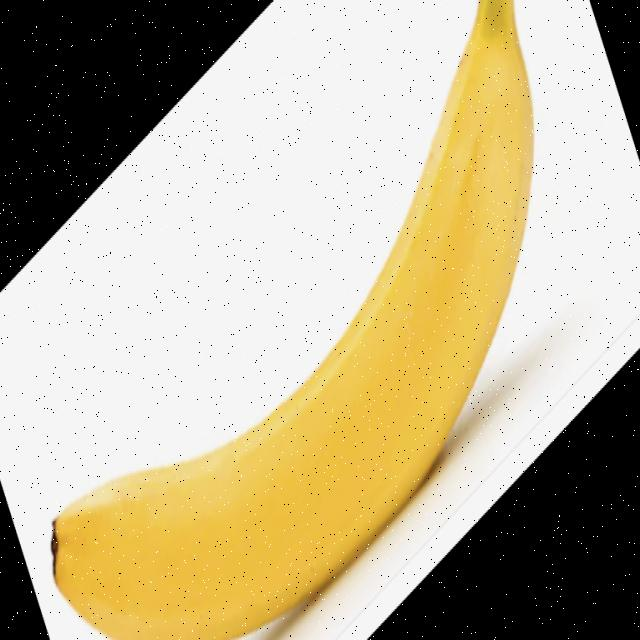god quality banana: (51, 2, 534, 638)
